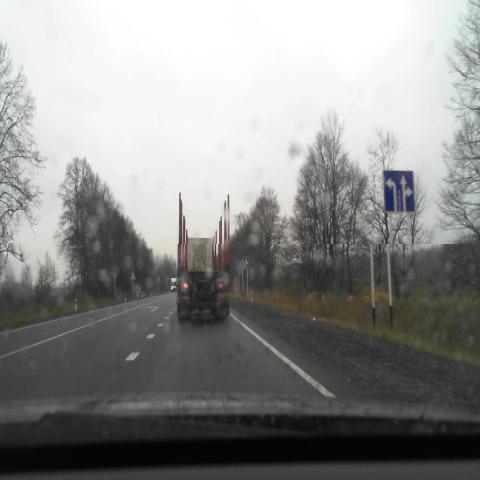5_15_2_2: (383, 170, 415, 213)
